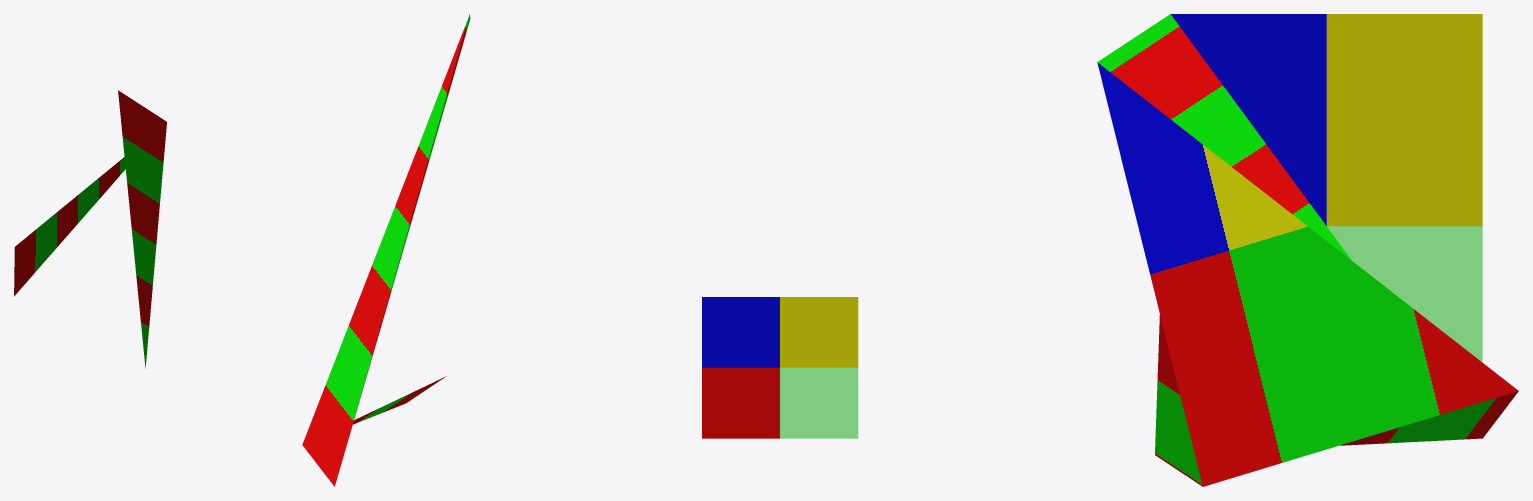
Rendered from source-backed-edited.glb.
The picture shows the model from 3 angles, left to right: view 1: azimuth 30°, elevation 25°; view 2: azimuth 150°, elevation 25°; view 3: azimuth 270°, elevation 25°; orthographic projection. The views are drawn at different scales.
Parts seen in each view (by area): view 1: Panel A; view 2: Panel A; view 3: Panel A, Panel B.
Boxes of the visible parts, box(x1,y1,x2,y2) form: Panel A: box(14, 90, 166, 368); Panel A: box(302, 14, 470, 486); Panel A: box(1097, 14, 1518, 486); Panel B: box(702, 297, 858, 438).
Size of the model in its own units: 0.4267 by 3.14 by 5.23.
2 materials, 2 textured.
